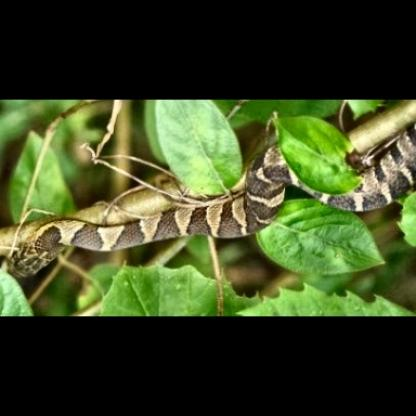Snake: (15, 103, 410, 289)
